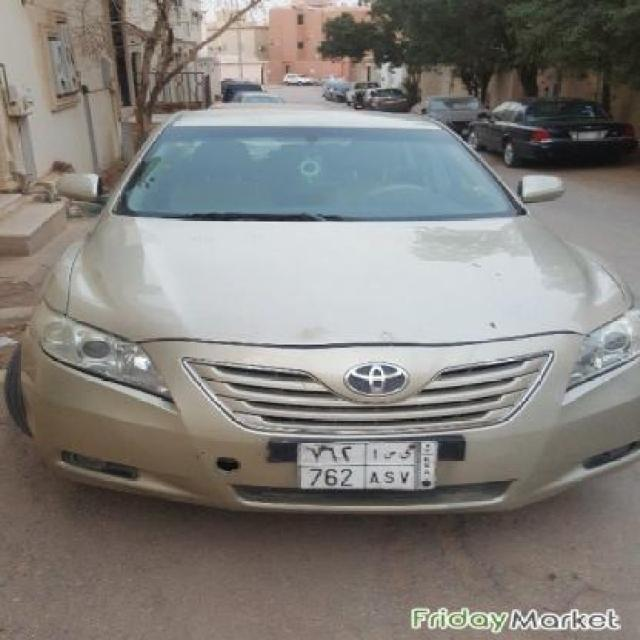license_plate: (295, 438, 440, 491)
